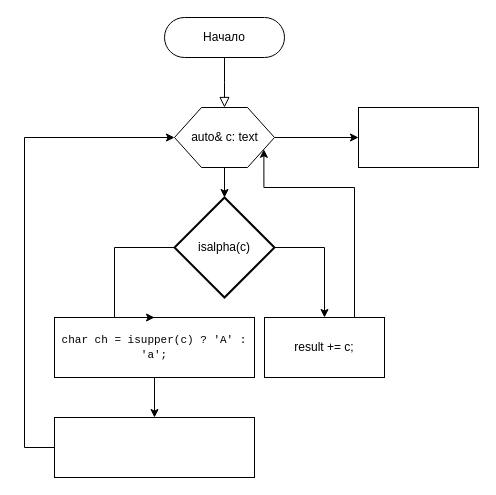
Image size: 496x495. Some labels were removed from this diagram. Each missing label, with the centre of its shape:
result += ( c - ch + shift ) % 26 + ch ;: pixel 154 447
return result;: pixel 418 137
